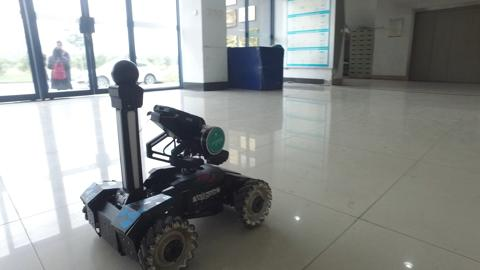chariot: (66, 51, 296, 269)
